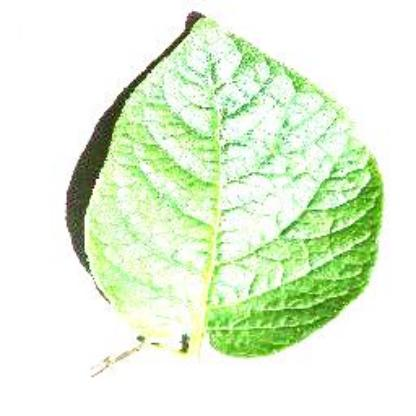Healthy-plant: (76, 10, 387, 364)
